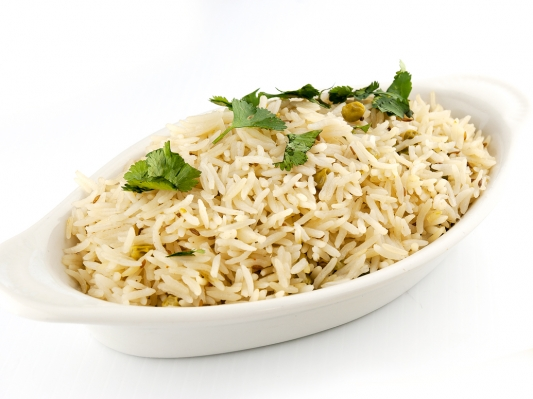plain rice: (36, 72, 503, 314)
